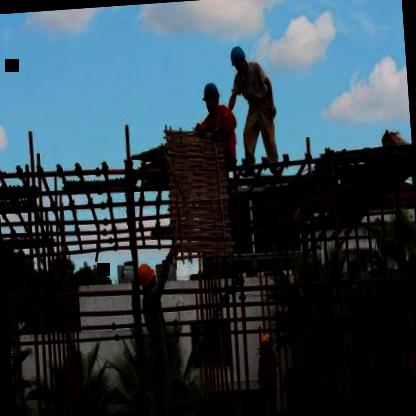helmet: (201, 78, 224, 116), (136, 260, 161, 294), (228, 44, 251, 78), (259, 334, 276, 358)
